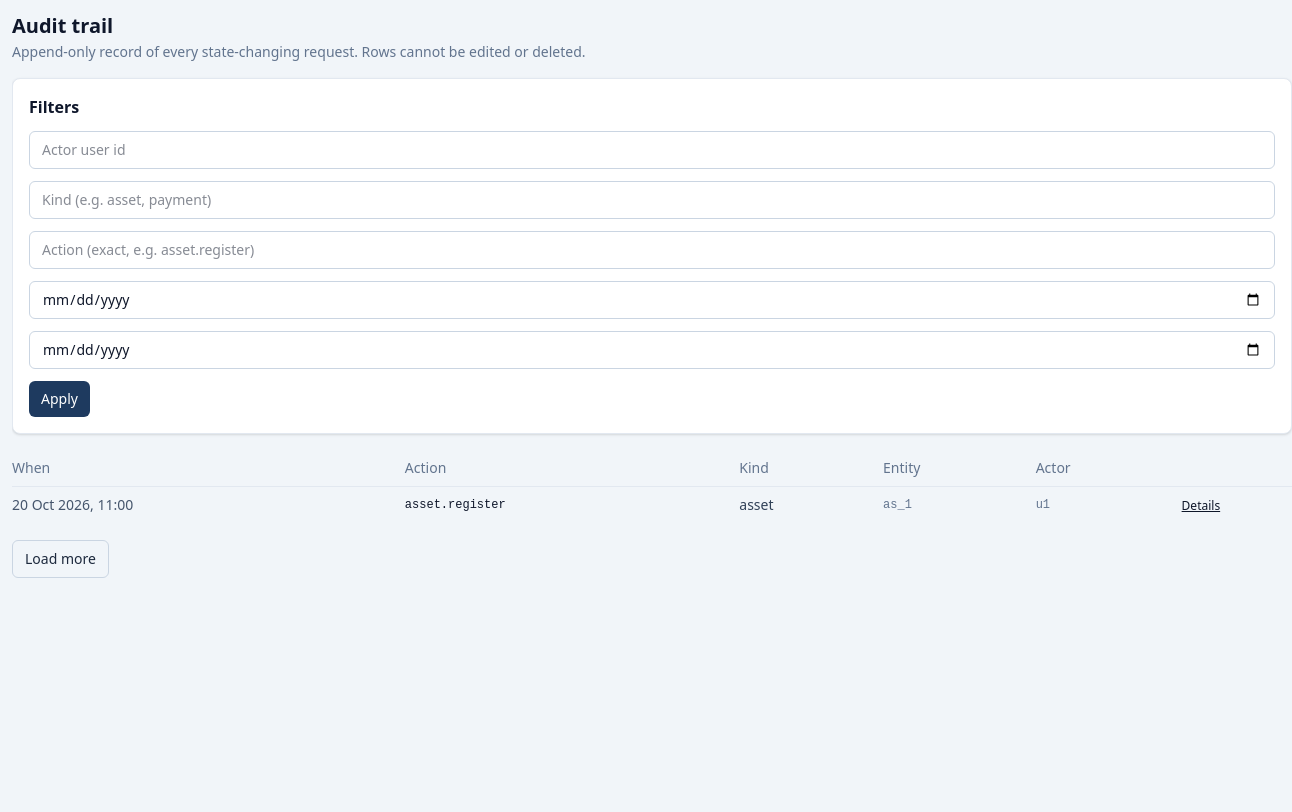
AuditPage › lists the first cursor page and expands a row's snapshots
Expected: the text "asset.register" is shown, [405,486,739,524]
Click the button "Details": (1201, 506) [1182,498,1220,514]
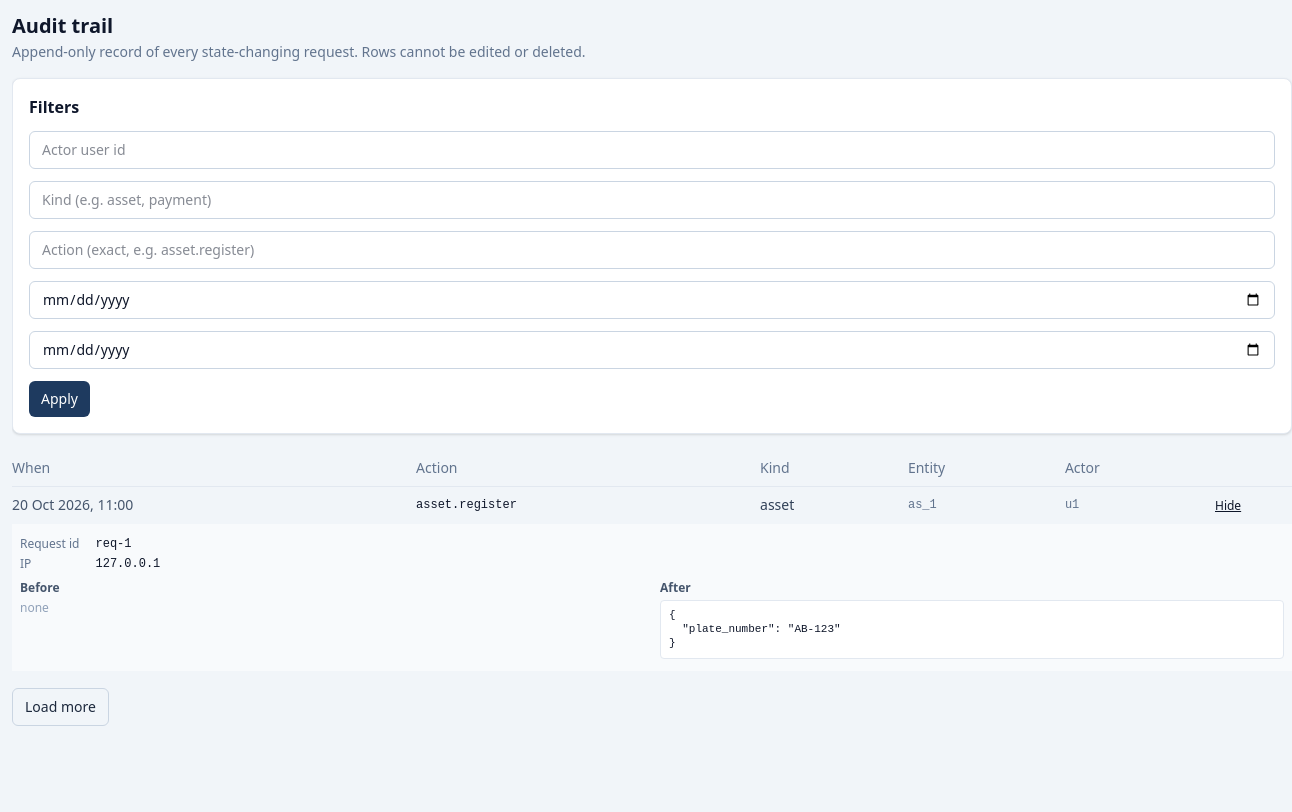
Expected: the text "{ \"plate_number\": \"AB-123\" }" is shown, [660,600,1284,659]
Expected: the text "req-1" is shown, [96,537,132,551]
